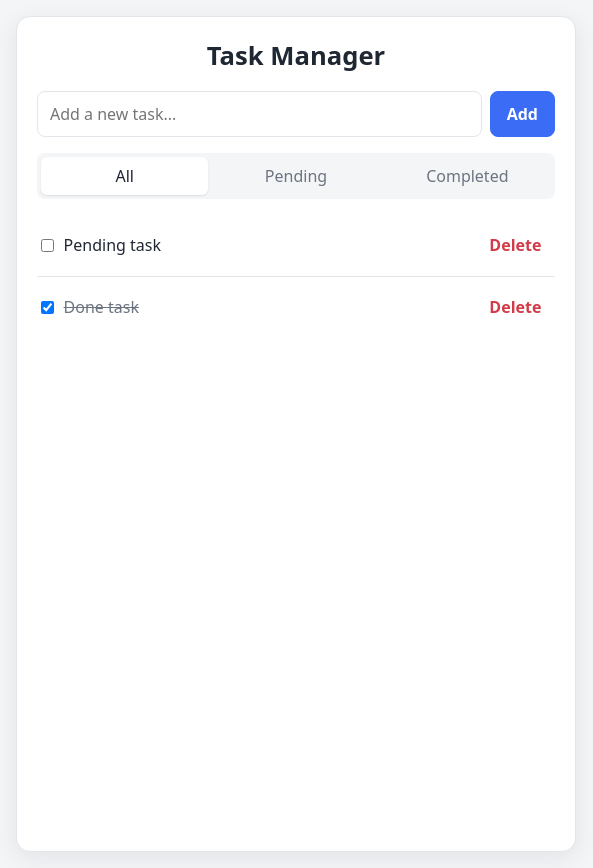
it: App › filters to show only completed tasks
This screenshot has width=593, height=868.
Expected: the text "Pending task" is shown, [64,233,161,257]
Click the button "Completed" at [467, 176], box [384,157,551,195]
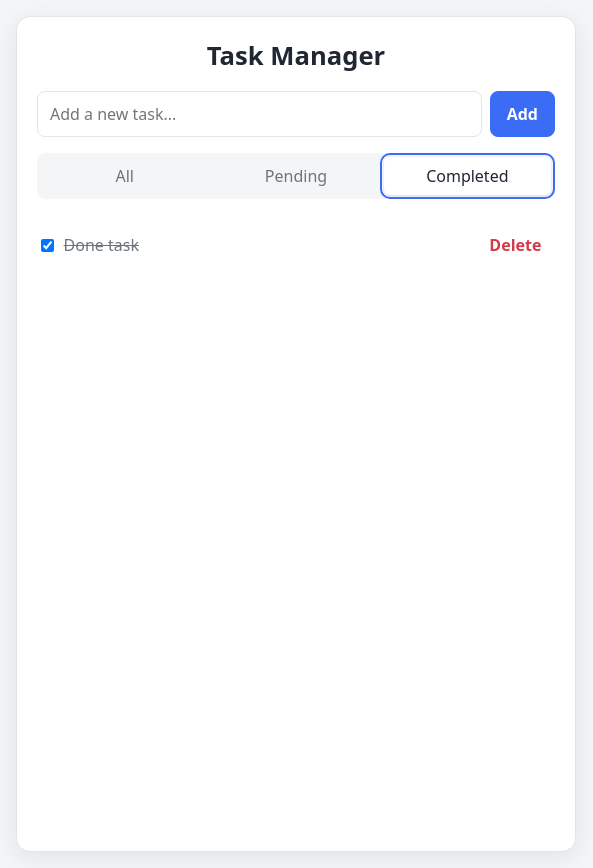
Expected: the text "Done task" is shown, [64,233,139,257]
Now the text "Pending task" is gone
